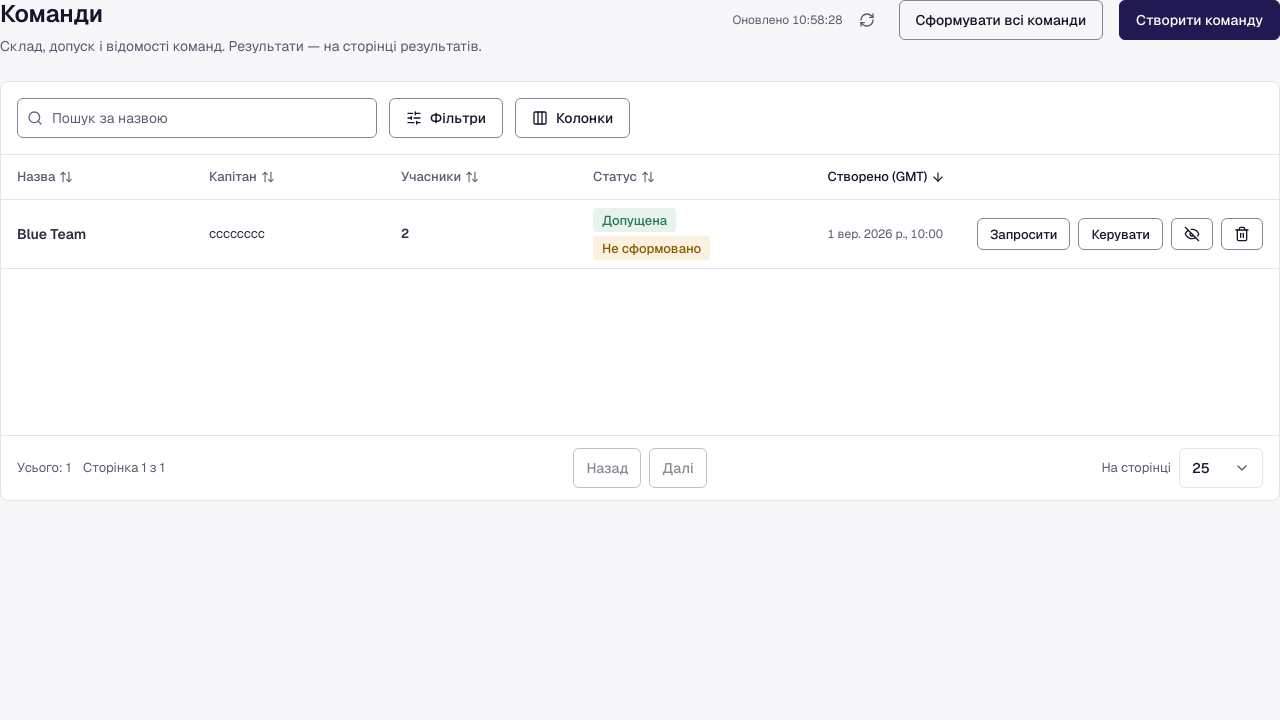
Scenario: shows «—» for hints when the team used none, like the results table
Click the button with aria-label "Керувати командою Blue Team": (1121, 234) top-left (1078, 218), bottom-right (1163, 250)
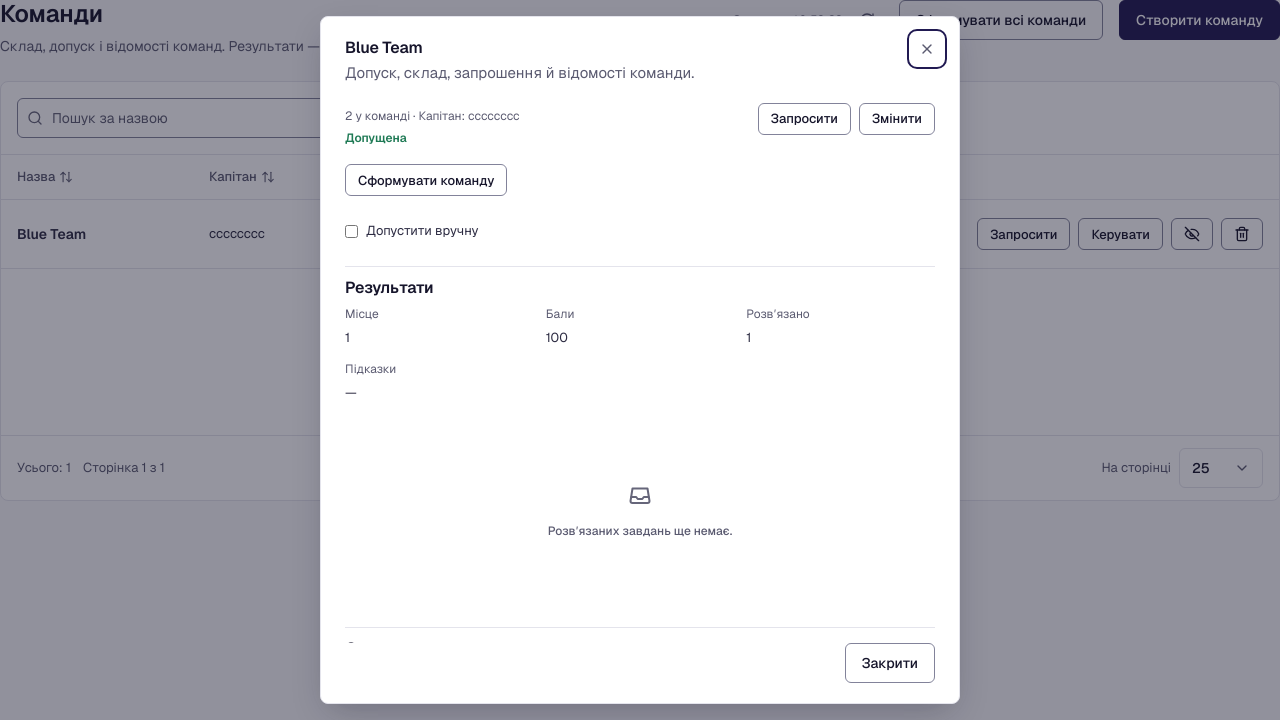
Expected: the text "—" is shown, top-left (345, 384), bottom-right (357, 401)
